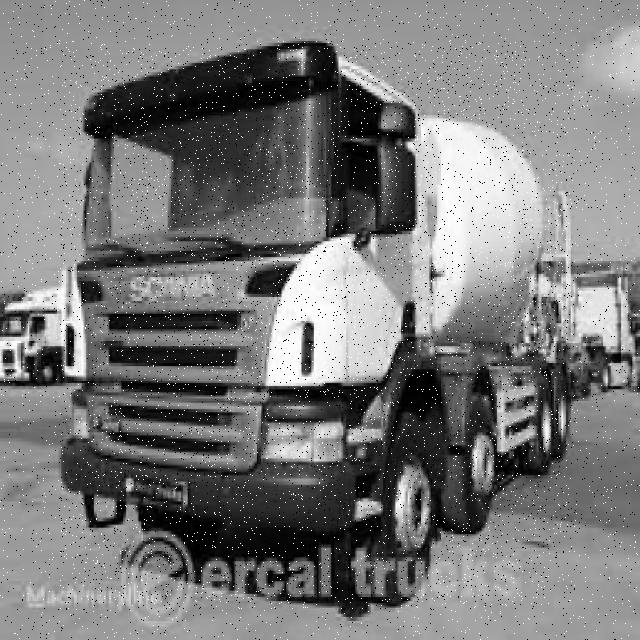Concrete Mixer: (60, 41, 575, 609)
